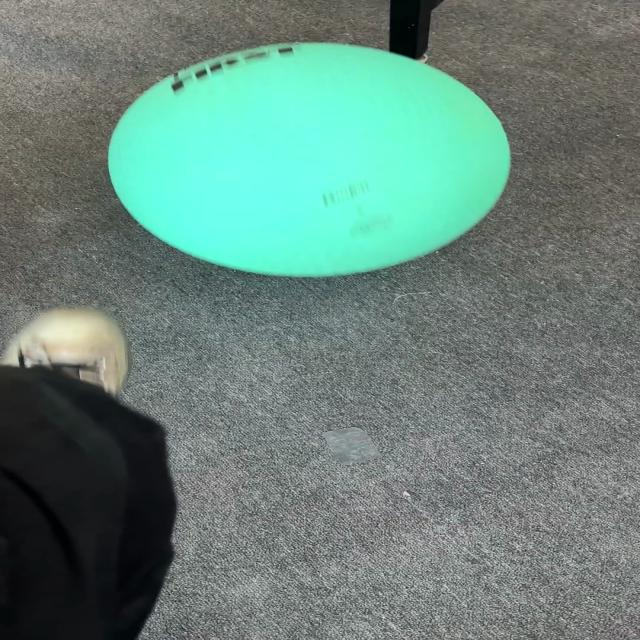Algae: (105, 41, 512, 278)
